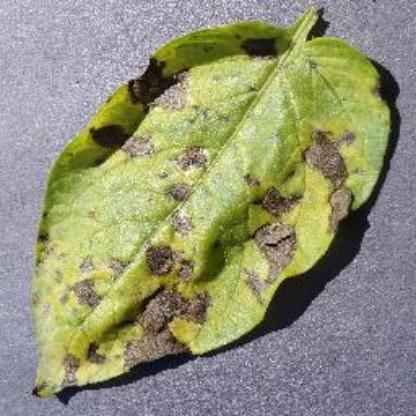Early-Blight: (30, 1, 408, 411)
